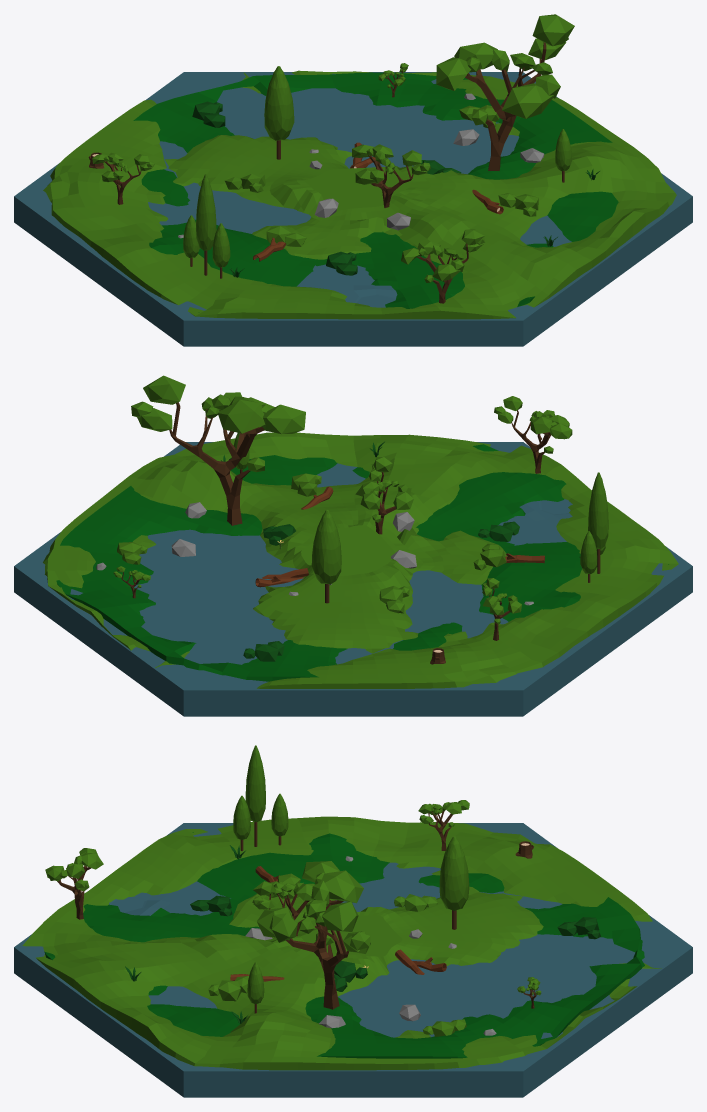
Rendered from Peatland 1.fbx.
The picture shows the model from 3 angles, top to bottom: view 1: azimuth 30°, elevation 25°; view 2: azimuth 150°, elevation 25°; view 3: azimuth 270°, elevation 25°; orthographic projection.
Parts seen in each view (by area): view 1: Cylinder.001; view 2: Cylinder.001; view 3: Cylinder.001.
Boxes of the visible parts, box(x1,y1,x2,y2) form: Cylinder.001: box(14, 14, 692, 346); Cylinder.001: box(14, 375, 692, 716); Cylinder.001: box(14, 745, 692, 1097).
Size of the model in its own units: 100 by 30.76 by 116.
